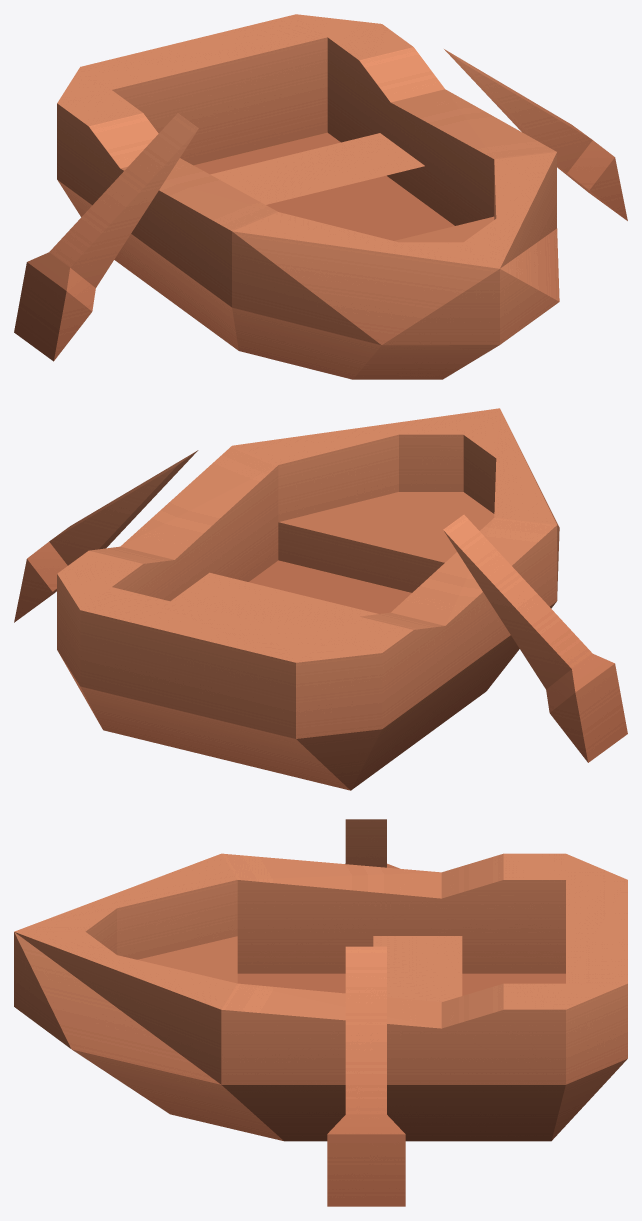
File: boat-row.glb
3 renders of one model, top to bottom at view 1: azimuth 30°, elevation 25°; view 2: azimuth 150°, elevation 25°; view 3: azimuth 270°, elevation 25°, orthographic.
Visible parts, largest first — view 1: boat-row-small, paddles; view 2: boat-row-small, paddles; view 3: boat-row-small, paddles.
Part boxes in pixels (bbox=[...]): boat-row-small: bbox=[57, 14, 559, 379]; paddles: bbox=[14, 49, 627, 361]; boat-row-small: bbox=[57, 408, 559, 790]; paddles: bbox=[14, 450, 627, 762]; boat-row-small: bbox=[14, 853, 627, 1141]; paddles: bbox=[327, 819, 405, 1206].
Size of the model in its own units: 2.52 by 0.8477 by 2.37.
1 material, 1 textured.
